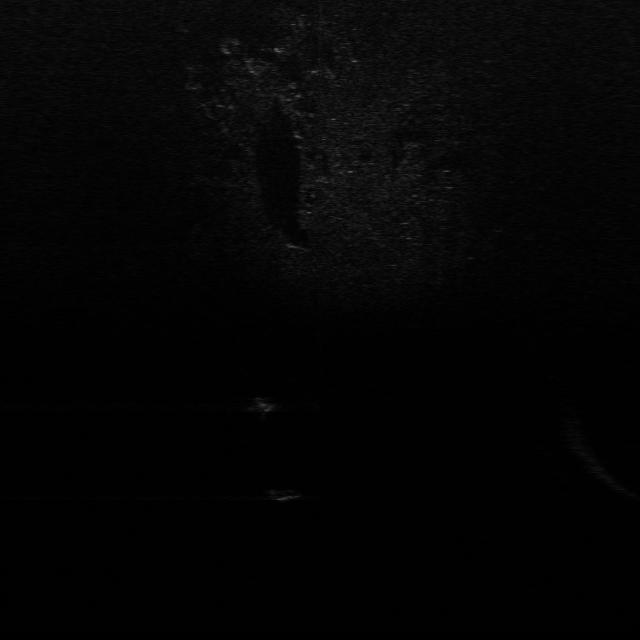cube: (264, 486, 304, 502)
square cage: (248, 391, 284, 414)
